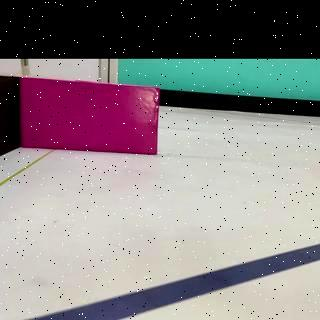xparking: (20, 84, 158, 158)
